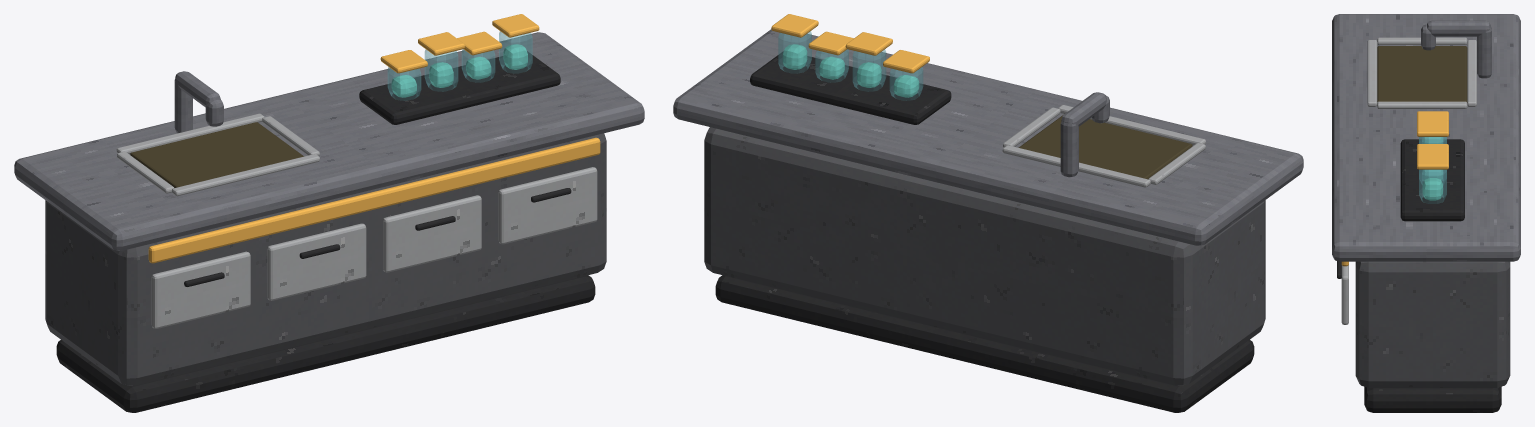
File: decor_chem_sink_island.glb
3 renders of one model, left to right at view 1: azimuth 30°, elevation 25°; view 2: azimuth 150°, elevation 25°; view 3: azimuth 270°, elevation 25°, orthographic. The views are drawn at different scales.
Parts seen in each view (by area): view 1: DEC_ChemSinkIsland__Cabinet_Body, DEC_ChemSinkIsland__Worktop, DEC_ChemSinkIsland__Toe_Plinth, DEC_ChemSinkIsland__Front_Accent, DEC_ChemSinkIsland__Beaker_Rack, DEC_ChemSinkIsland__Sink_Inset, DEC_ChemSinkIsland__Drawer_1, DEC_ChemSinkIsland__Drawer_2, DEC_ChemSinkIsland__Drawer_4, DEC_ChemSinkIsland__Drawer_3, DEC_ChemSinkIsland__Sink_Rim_Front, DEC_ChemSinkIsland__Beaker_2_Glass (+12 smaller); view 2: DEC_ChemSinkIsland__Cabinet_Body, DEC_ChemSinkIsland__Worktop, DEC_ChemSinkIsland__Toe_Plinth, DEC_ChemSinkIsland__Beaker_Rack, DEC_ChemSinkIsland__Sink_Inset, DEC_ChemSinkIsland__Beaker_2_Glass, DEC_ChemSinkIsland__Sink_Rim_Back, DEC_ChemSinkIsland__Beaker_4_Glass, DEC_ChemSinkIsland__Faucet_Post, DEC_ChemSinkIsland__Beaker_1_Glass, DEC_ChemSinkIsland__Beaker_3_Glass, DEC_ChemSinkIsland__Sink_Rim_Front (+7 smaller); view 3: DEC_ChemSinkIsland__Worktop, DEC_ChemSinkIsland__Cabinet_Body, DEC_ChemSinkIsland__Sink_Inset, DEC_ChemSinkIsland__Beaker_Rack, DEC_ChemSinkIsland__Toe_Plinth, DEC_ChemSinkIsland__Faucet_Spout, DEC_ChemSinkIsland__Beaker_4_Glass, DEC_ChemSinkIsland__Sink_Rim_Front, DEC_ChemSinkIsland__Sink_Rim_Right, DEC_ChemSinkIsland__Faucet_Post, DEC_ChemSinkIsland__Sink_Rim_Back, DEC_ChemSinkIsland__Sink_Rim_Left (+8 smaller).
Boxes of the visible parts, x1,y1,x2,y2 form: DEC_ChemSinkIsland__Cabinet_Body: [45, 133, 606, 385]; DEC_ChemSinkIsland__Worktop: [14, 32, 644, 250]; DEC_ChemSinkIsland__Toe_Plinth: [56, 275, 595, 412]; DEC_ChemSinkIsland__Front_Accent: [148, 137, 600, 263]; DEC_ChemSinkIsland__Beaker_Rack: [359, 51, 560, 124]; DEC_ChemSinkIsland__Sink_Inset: [130, 122, 303, 187]; DEC_ChemSinkIsland__Drawer_1: [151, 251, 250, 328]; DEC_ChemSinkIsland__Drawer_2: [267, 223, 366, 300]; DEC_ChemSinkIsland__Drawer_4: [498, 167, 597, 244]; DEC_ChemSinkIsland__Drawer_3: [383, 195, 481, 272]; DEC_ChemSinkIsland__Sink_Rim_Front: [172, 154, 319, 196]; DEC_ChemSinkIsland__Beaker_2_Glass: [424, 49, 458, 91]; DEC_ChemSinkIsland__Cabinet_Body: [704, 127, 1265, 385]; DEC_ChemSinkIsland__Worktop: [673, 29, 1303, 245]; DEC_ChemSinkIsland__Toe_Plinth: [715, 275, 1254, 412]; DEC_ChemSinkIsland__Beaker_Rack: [750, 51, 951, 124]; DEC_ChemSinkIsland__Sink_Inset: [1018, 115, 1192, 179]; DEC_ChemSinkIsland__Beaker_2_Glass: [852, 49, 886, 91]; DEC_ChemSinkIsland__Sink_Rim_Back: [1002, 145, 1150, 187]; DEC_ChemSinkIsland__Beaker_4_Glass: [778, 31, 811, 73]; DEC_ChemSinkIsland__Faucet_Post: [1060, 121, 1078, 177]; DEC_ChemSinkIsland__Beaker_1_Glass: [889, 67, 923, 100]; DEC_ChemSinkIsland__Beaker_3_Glass: [815, 49, 848, 82]; DEC_ChemSinkIsland__Sink_Rim_Front: [1058, 105, 1205, 145]; DEC_ChemSinkIsland__Worktop: [1332, 14, 1520, 261]; DEC_ChemSinkIsland__Cabinet_Body: [1355, 261, 1510, 387]; DEC_ChemSinkIsland__Sink_Inset: [1377, 46, 1467, 102]; DEC_ChemSinkIsland__Beaker_Rack: [1400, 139, 1464, 221]; DEC_ChemSinkIsland__Toe_Plinth: [1364, 386, 1501, 412]; DEC_ChemSinkIsland__Faucet_Spout: [1427, 20, 1490, 36]; DEC_ChemSinkIsland__Beaker_4_Glass: [1419, 169, 1446, 203]; DEC_ChemSinkIsland__Sink_Rim_Front: [1367, 40, 1377, 106]; DEC_ChemSinkIsland__Sink_Rim_Right: [1377, 101, 1467, 108]; DEC_ChemSinkIsland__Faucet_Post: [1477, 27, 1491, 78]; DEC_ChemSinkIsland__Sink_Rim_Back: [1467, 40, 1476, 106]; DEC_ChemSinkIsland__Sink_Rim_Left: [1377, 37, 1467, 44].
Size of the model in its own units: 2.58 by 1.24 by 0.88.
8 materials, 4 textured.
